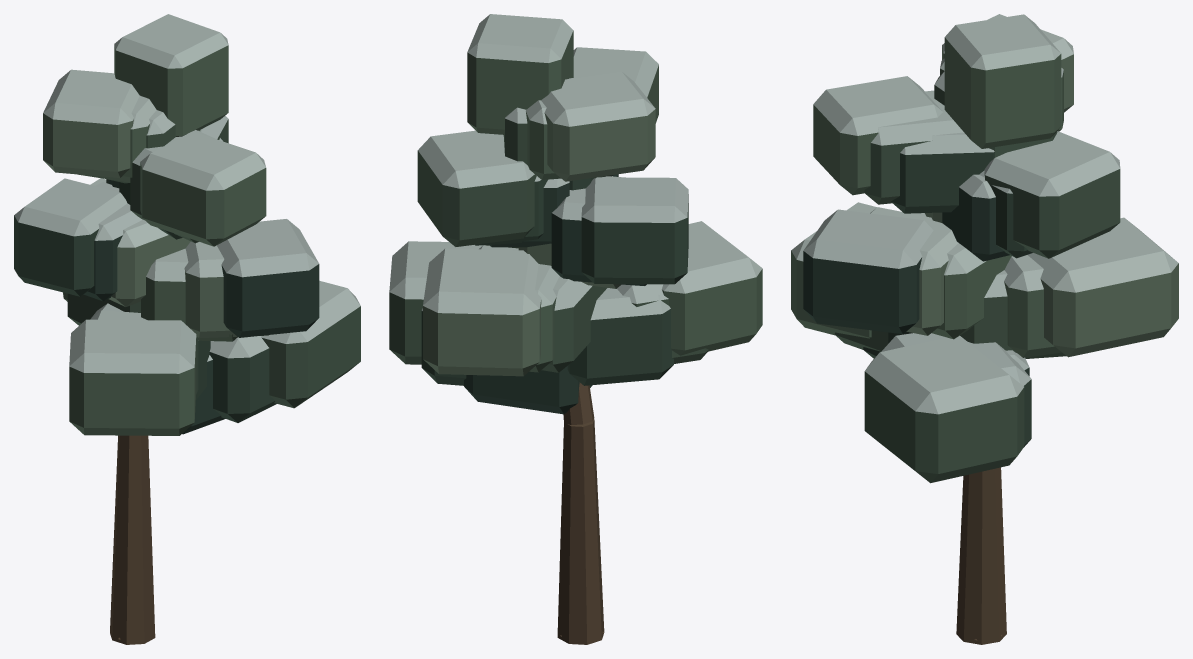
Rendered from juniper_mature_winter_picked.glb.
3 views of the same model, side by side, from view 1: azimuth 30°, elevation 25°; view 2: azimuth 150°, elevation 25°; view 3: azimuth 270°, elevation 25° (orthographic). The views are drawn at different scales.
Parts seen in each view (by area): view 1: juniper_mature_winter_picked; view 2: juniper_mature_winter_picked; view 3: juniper_mature_winter_picked.
Part boxes in pixels (x1,y1,x2,y2): juniper_mature_winter_picked: [14, 14, 360, 644]; juniper_mature_winter_picked: [389, 14, 762, 644]; juniper_mature_winter_picked: [791, 14, 1178, 644].
Size of the model in its own units: 6.91 by 12 by 6.75.
